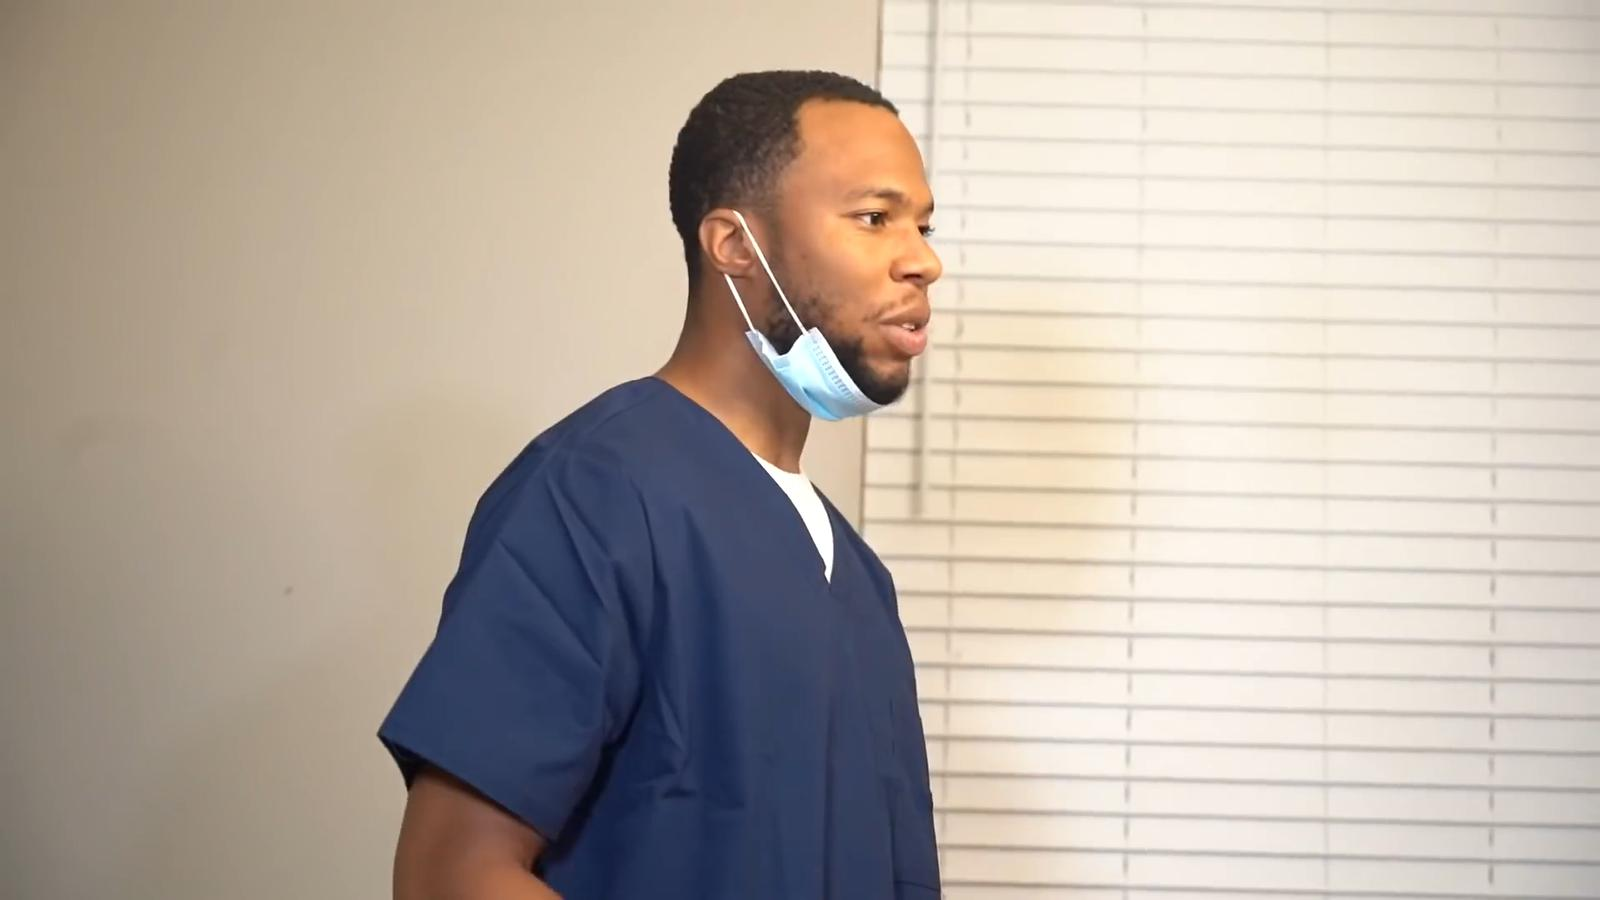with_incorrect_mask: (720, 132, 921, 406)
